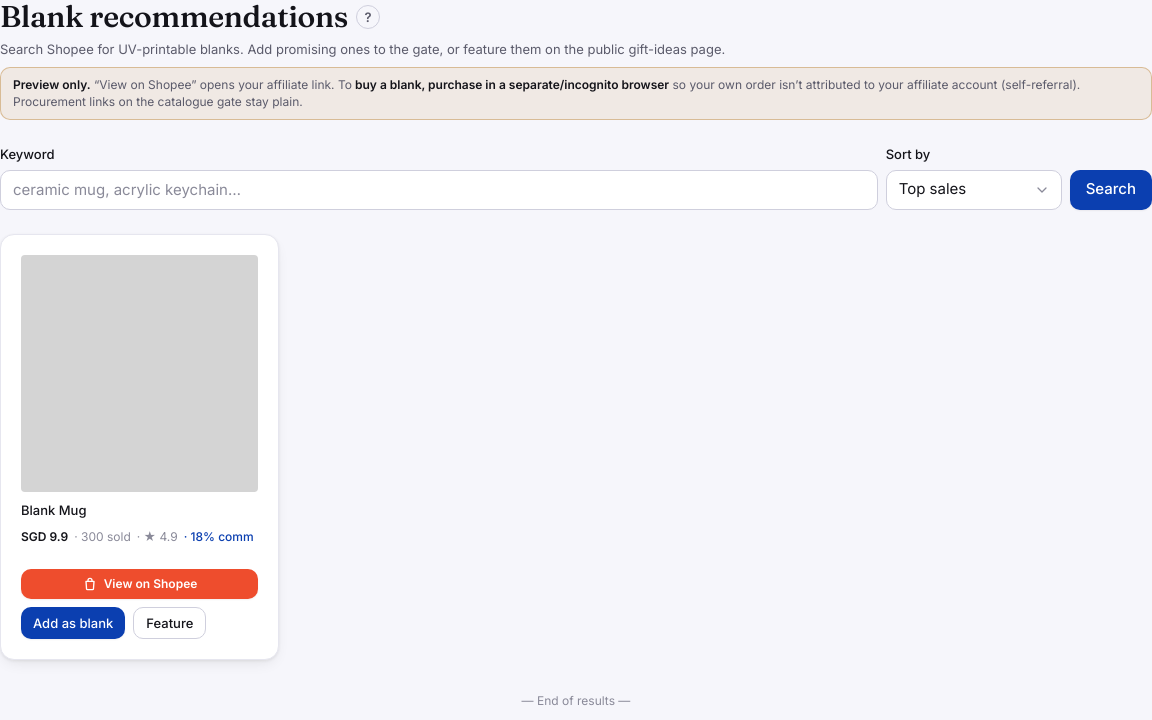
Test: opens the resolve-blockers popup seeded with the added product
Type "mug" into the field labelled "Keyword" at (439, 190), box [0, 170, 878, 210]
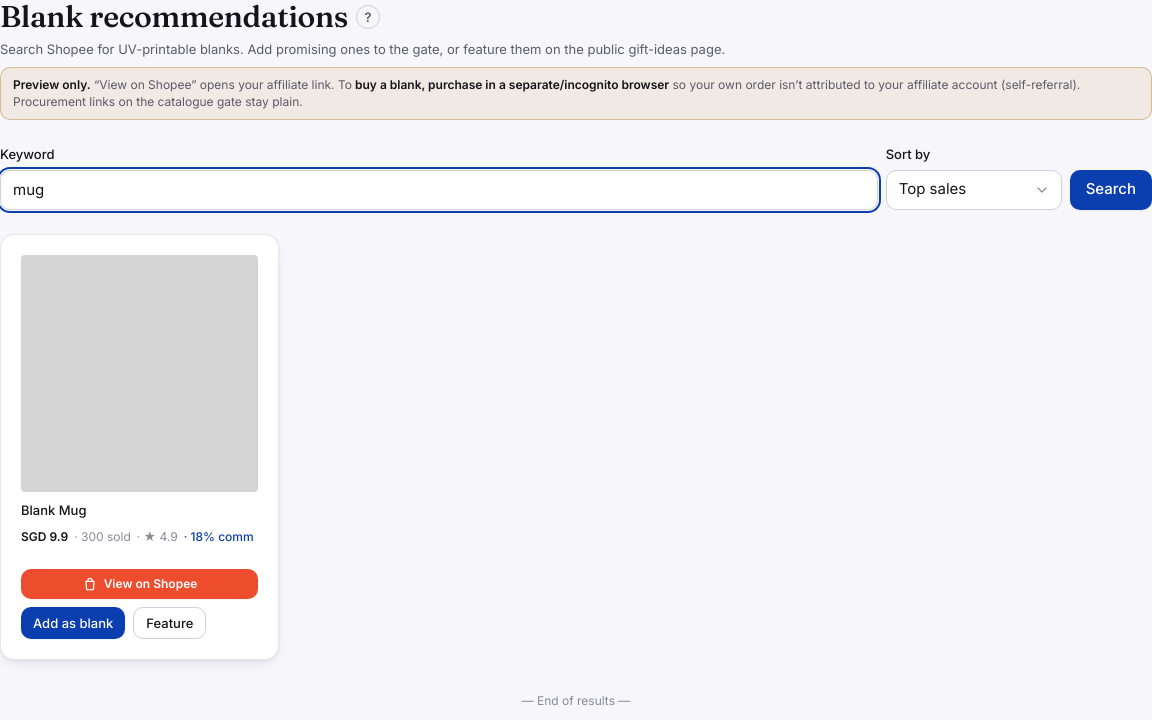
Click the button "Search" at (1111, 190), box [1070, 170, 1151, 210]
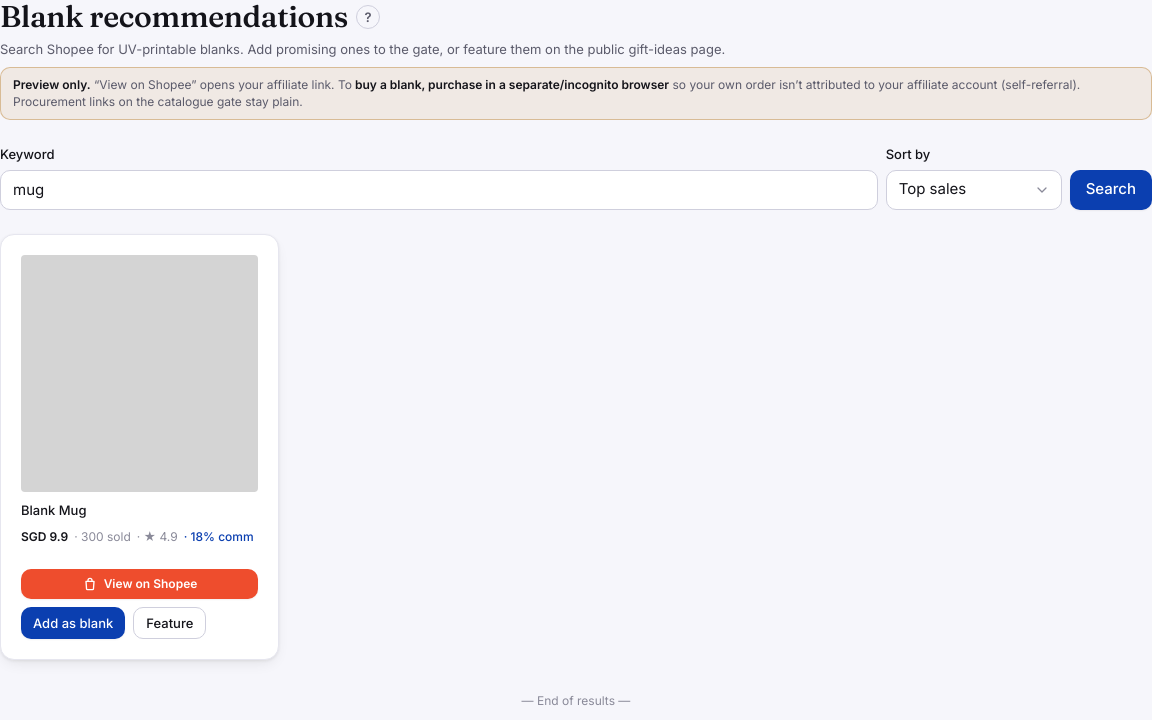
Check: the text "Blank Mug" is shown, box [21, 502, 86, 518]
Click the button "Add as blank" at (73, 623), box [21, 607, 125, 639]
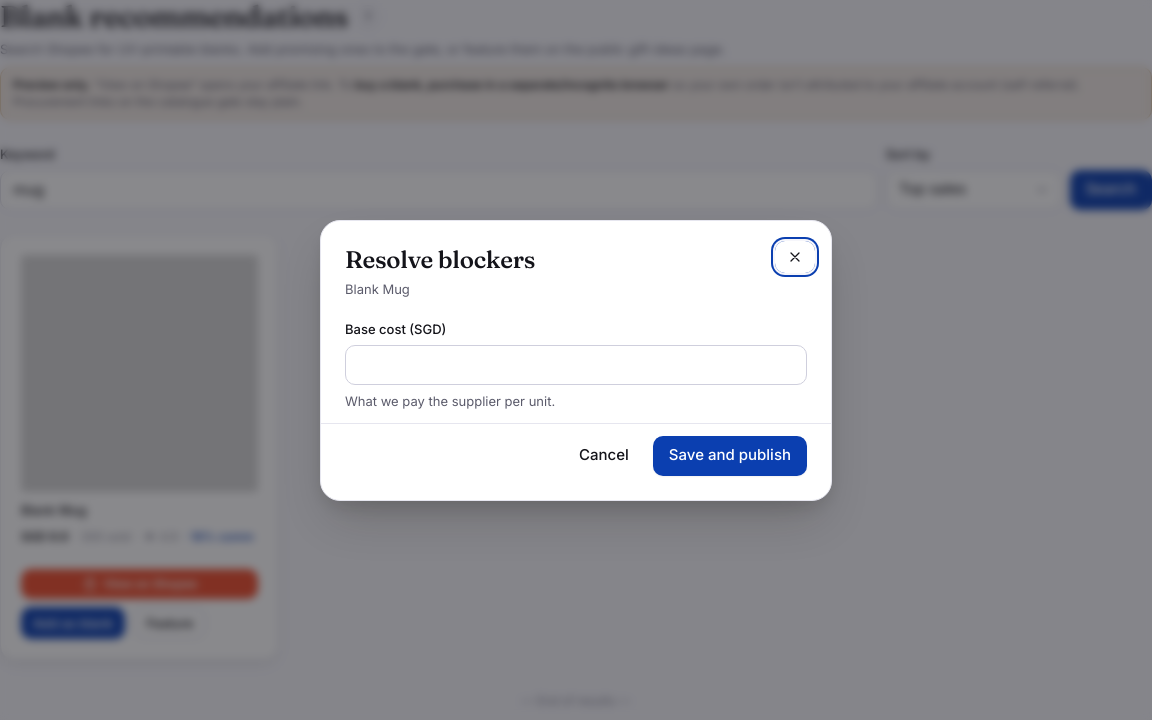
Check: the dialog shows "Resolve blockers", box [345, 244, 535, 274]
Check: the text "Blank Mug" is shown, box [345, 280, 410, 296]
Check: the field labelled "Base cost (SGD)" is shown, box [345, 344, 807, 384]
